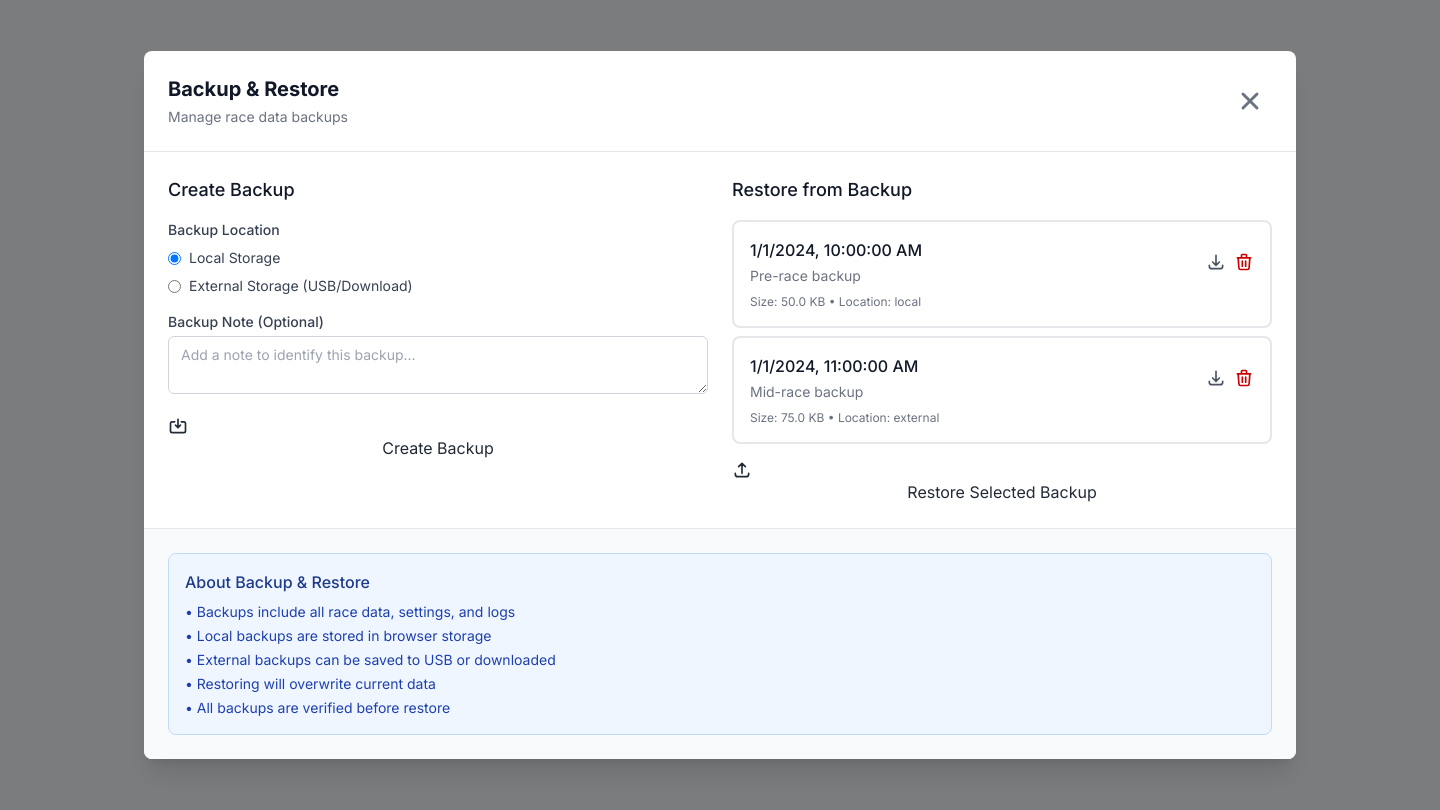
Scenario: BackupRestoreDialog › prevents restore if verification fails
The width and height of the screenshot is (1440, 810).
# Select a backup
What coordinates should you click on to do the following:
click the text "Pre-race backup"
I would click on:
 (805, 276)
Its box is 750,267 -> 861,284.
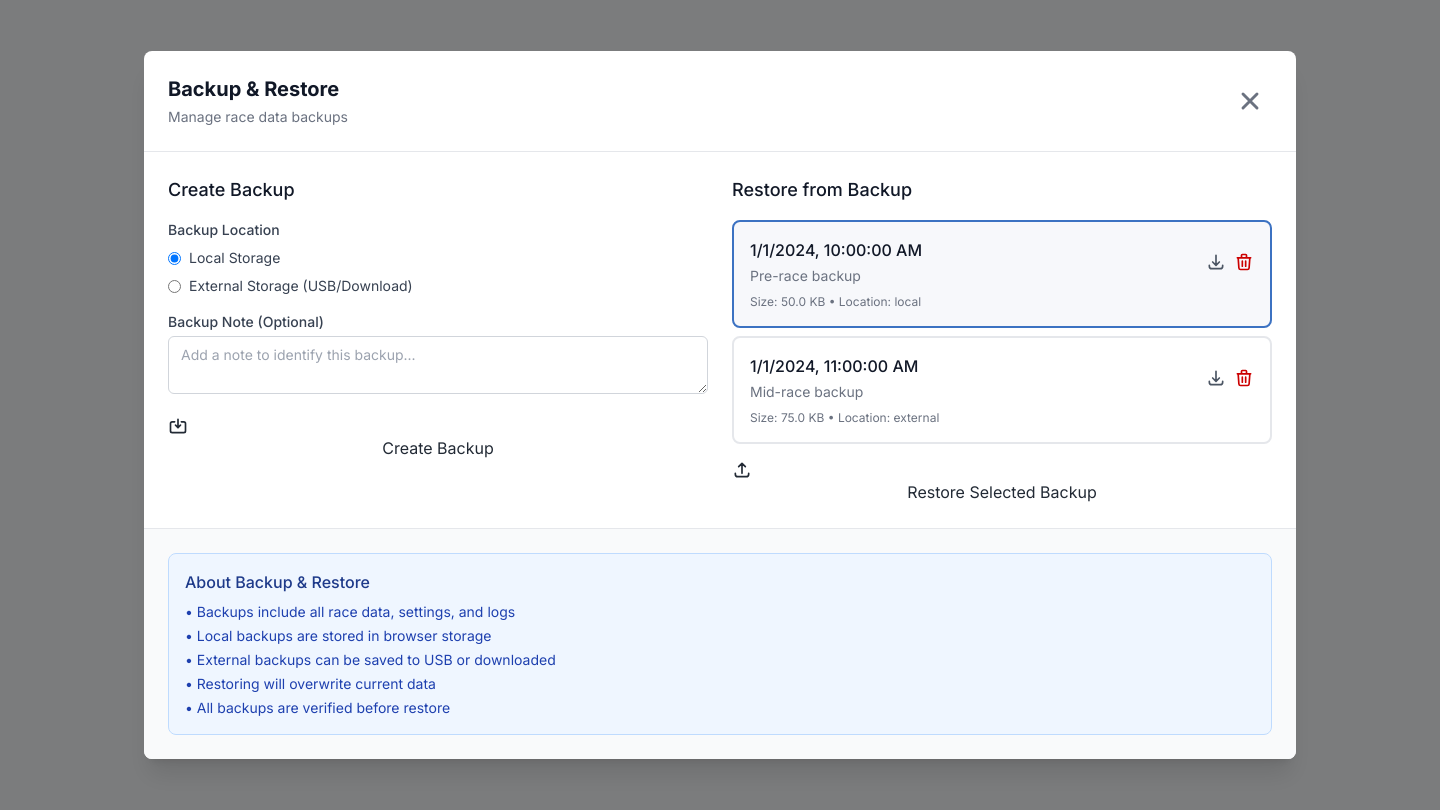
# Click restore — opens ConfirmModal
What coordinates should you click on to do the following:
click the button "Restore Selected Backup"
I would click on:
 (1002, 482)
Its box is 732,460 -> 1272,504.
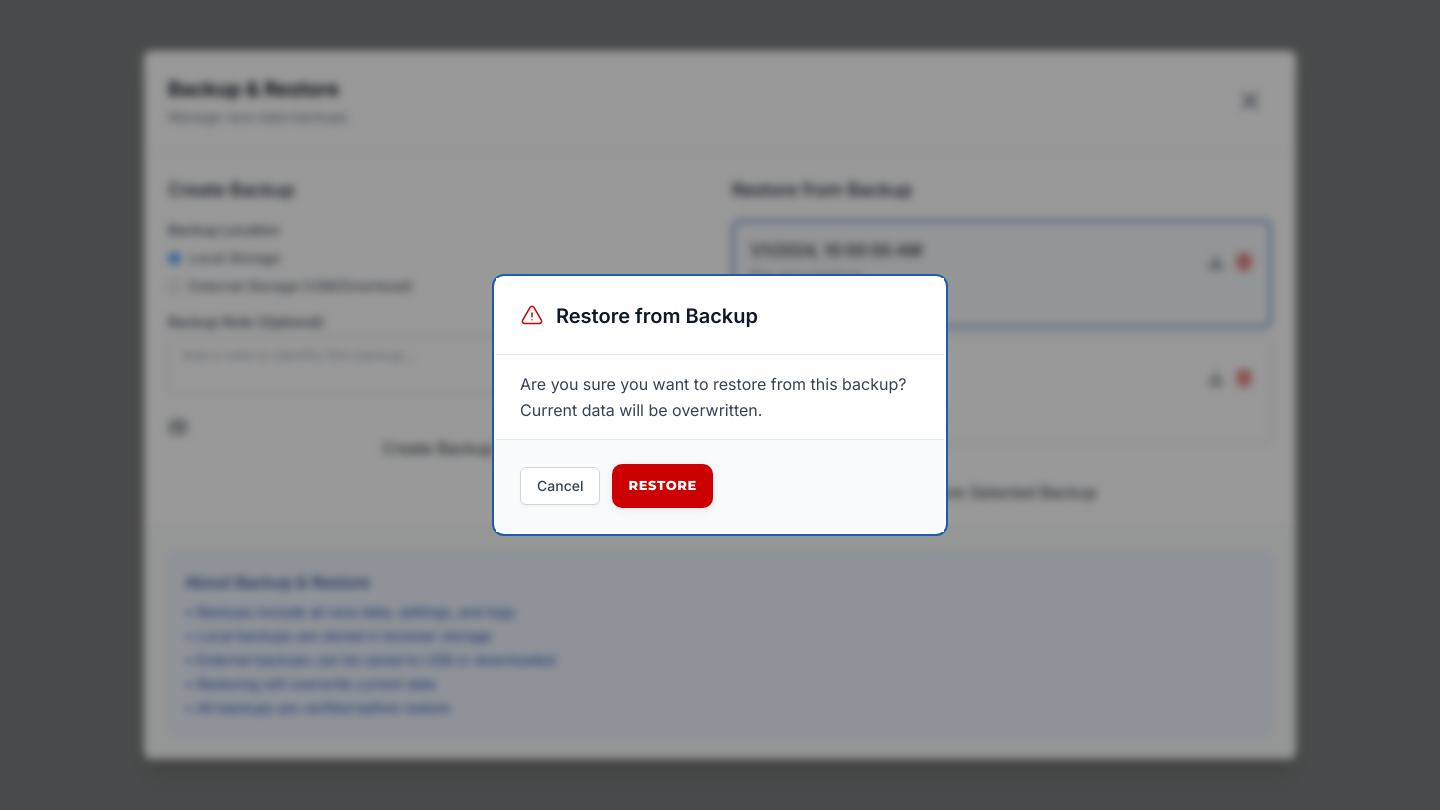
# Confirm in ConfirmModal
What coordinates should you click on to do the following:
click the button "Restore"
I would click on:
 (663, 486)
Its box is 612,464 -> 713,508.
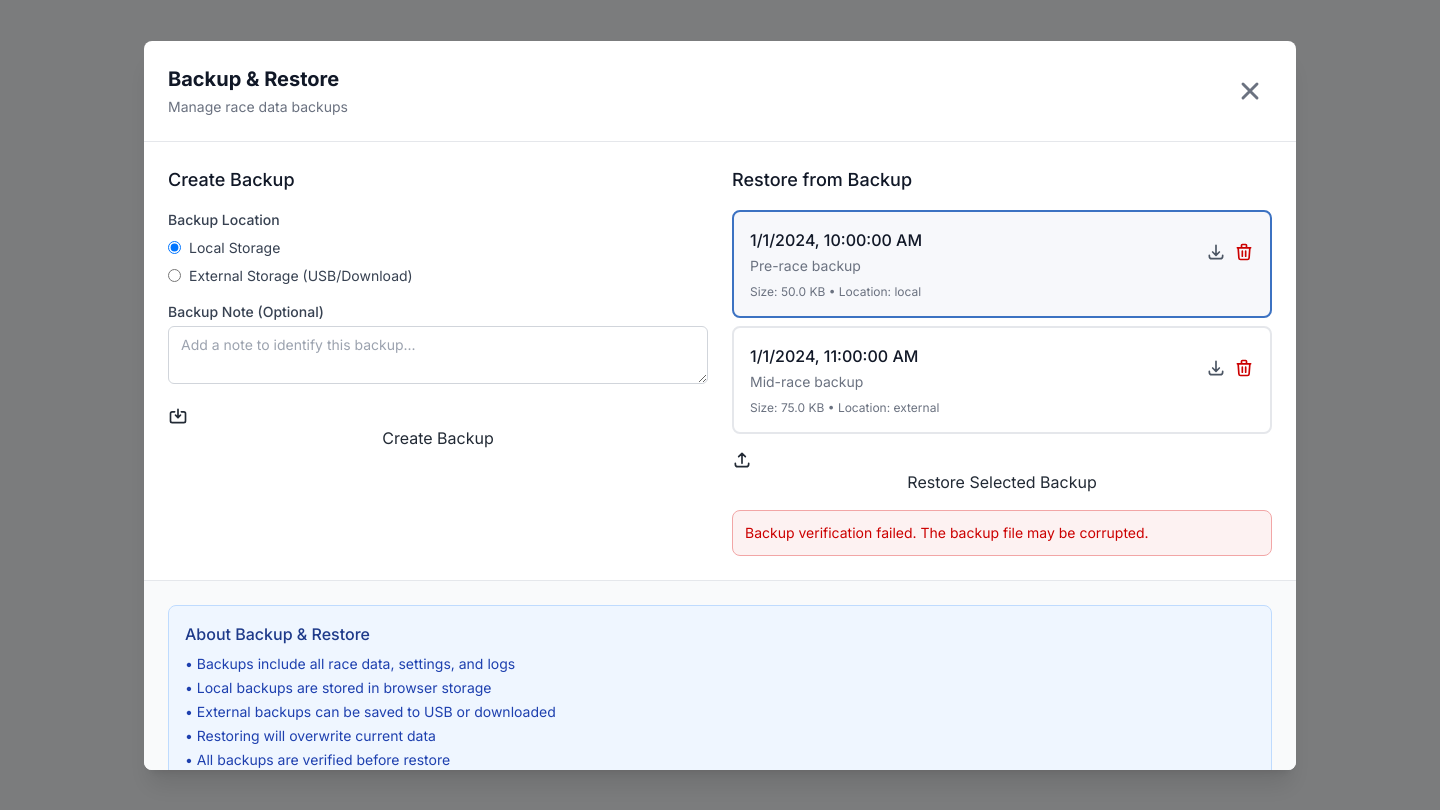
Expected: the text "Backup verification failed" is shown, 745,524 -> 1149,540
